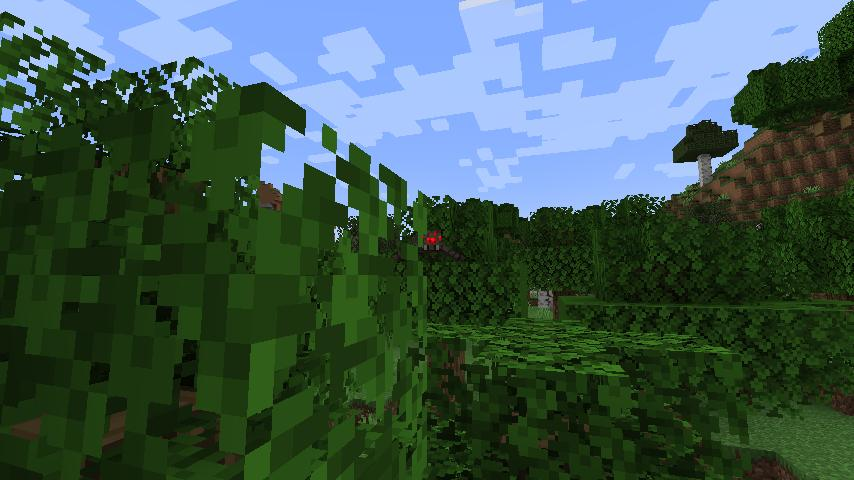spider: (391, 229, 461, 261)
